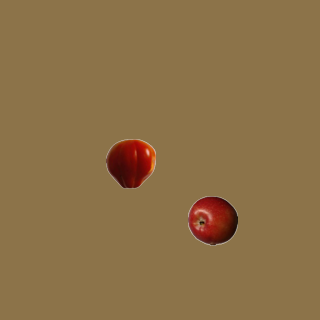Apple Braeburn: (187, 195, 237, 245)
Tomato 1: (105, 138, 155, 188)
